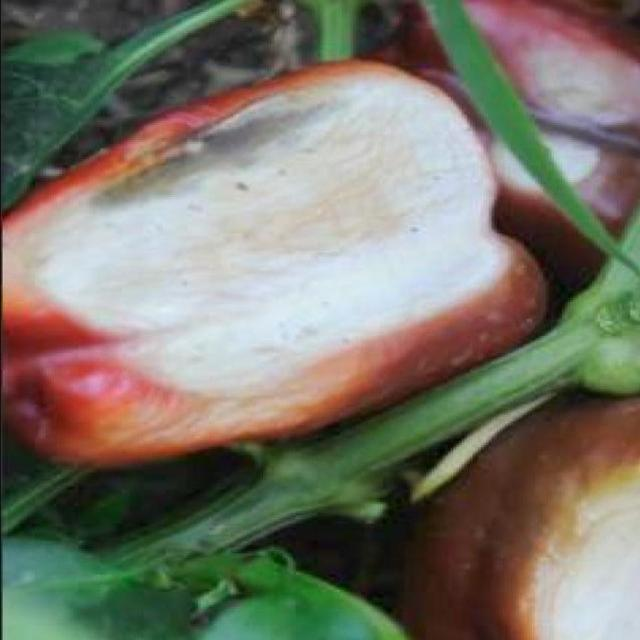Sunscald Fruit: (78, 78, 388, 358)
